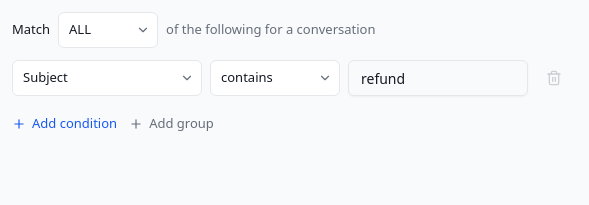
Scenario: the condition builder › refuses to remove the last condition, because an empty rule matches everything
Expected: the button named "remove condition" is disabled, [536,60,572,96]
Click the button "Add condition".
click(65, 124)  # box [12,108,117,140]
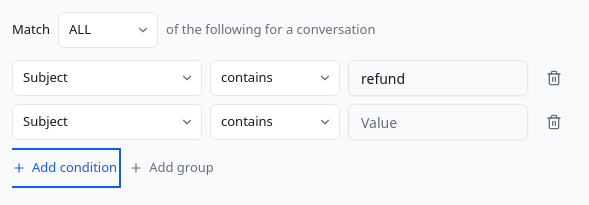
Result: the number of buttons named "remove condition" is 2 at [536,60,572,96]; [536,104,572,140]
Result: the 1st button named "remove condition" is enabled at [536,60,572,96]
